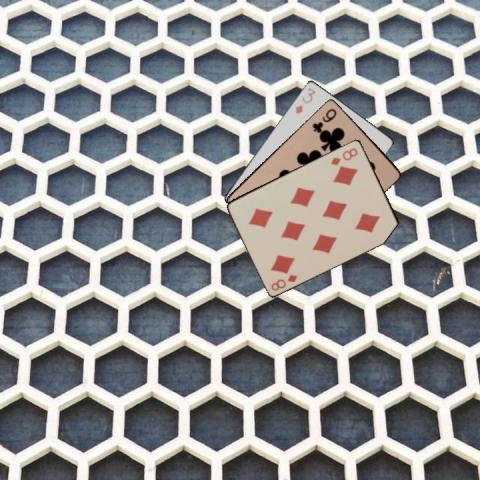3d: (293, 85, 317, 115)
8d: (328, 145, 360, 166), (268, 271, 299, 292)
9c: (309, 104, 338, 132)
